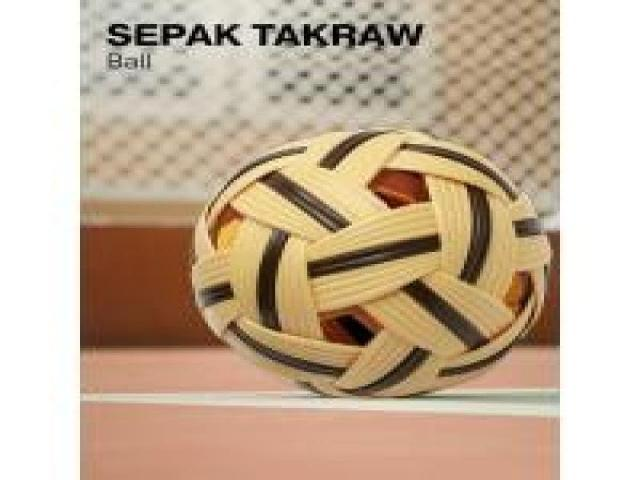round ball: (192, 132, 550, 397)
